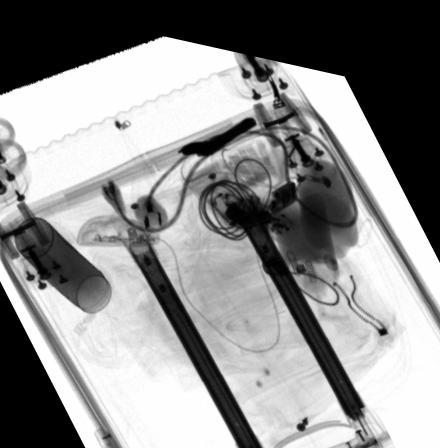Gun: (178, 104, 255, 149)
